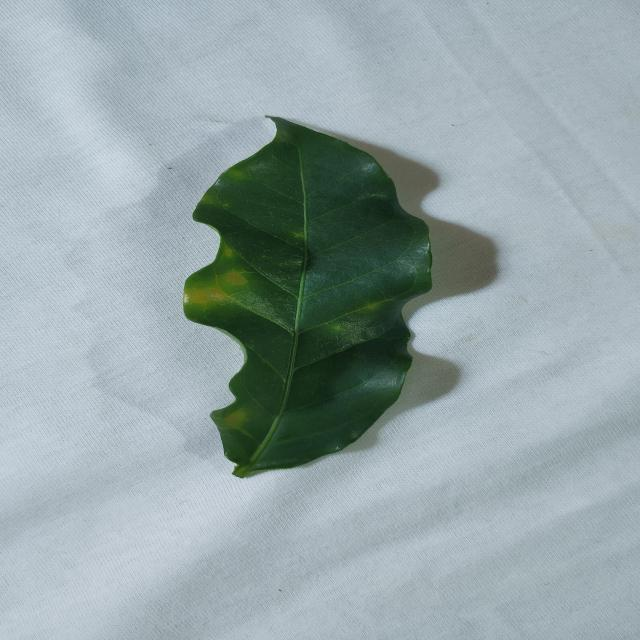Enfermedad-Roya: (182, 118, 437, 480)
